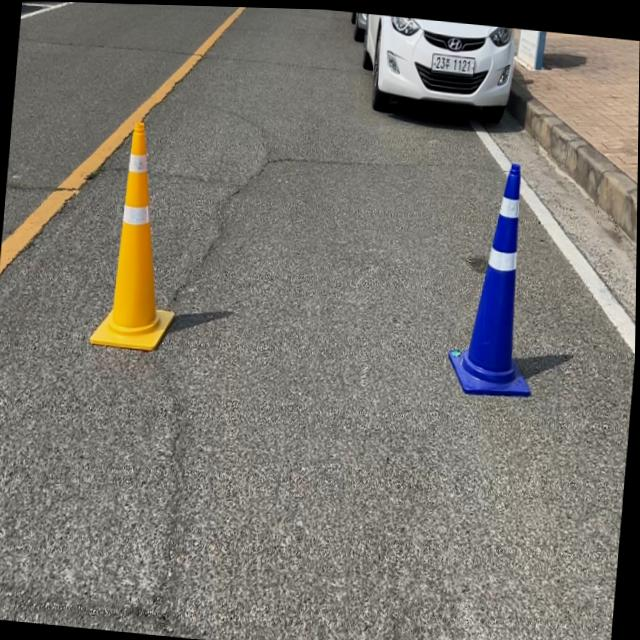b_rub: (450, 159, 531, 392)
y_rub: (90, 119, 175, 349)
